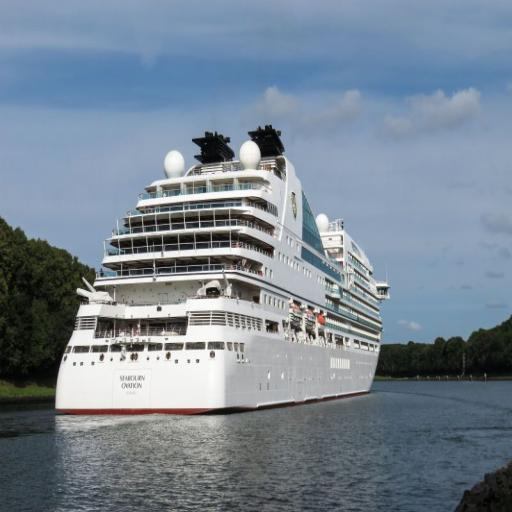cruises: (51, 121, 394, 424)
